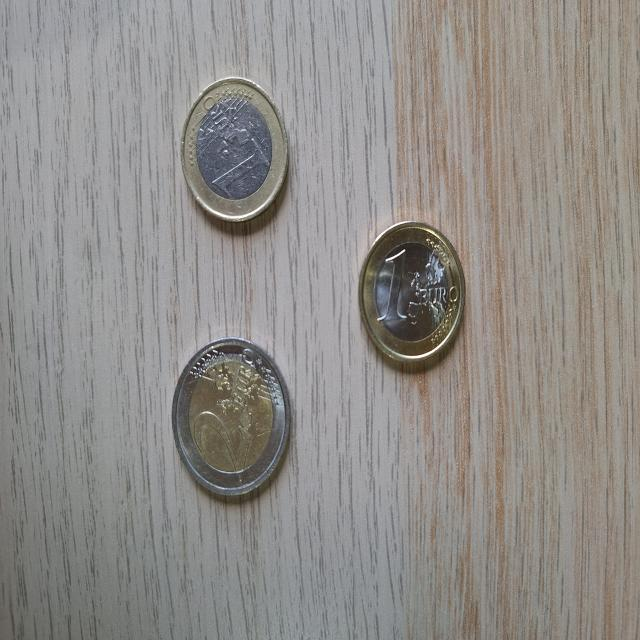1e: (350, 210, 479, 384), (172, 70, 299, 239)
2e: (166, 328, 304, 518)
